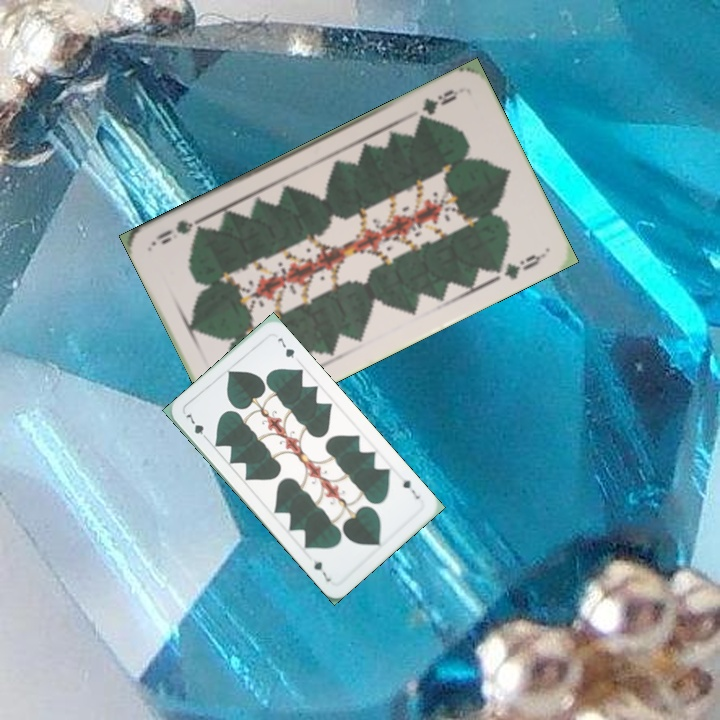G7: (181, 410, 211, 443), (397, 472, 422, 502)
G9: (413, 85, 461, 124)
